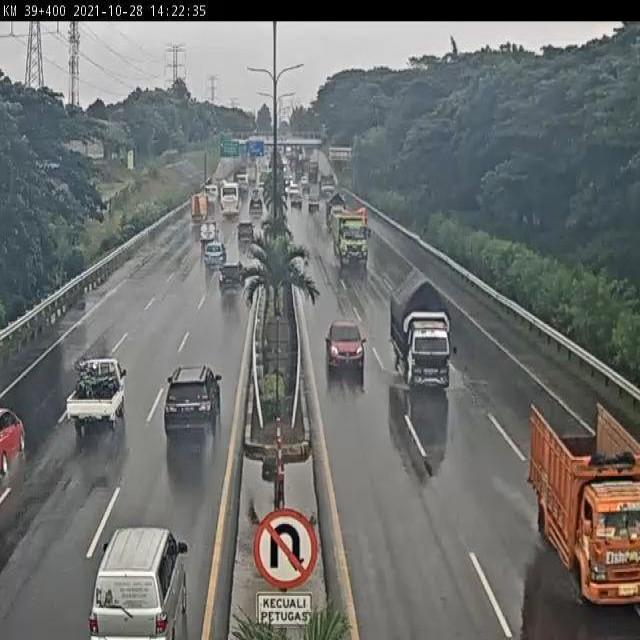car: (66, 357, 126, 435), (162, 365, 222, 439), (325, 320, 367, 373)
truck-l-: (332, 207, 371, 269)
truck-s-: (528, 396, 640, 604), (390, 267, 449, 388)
